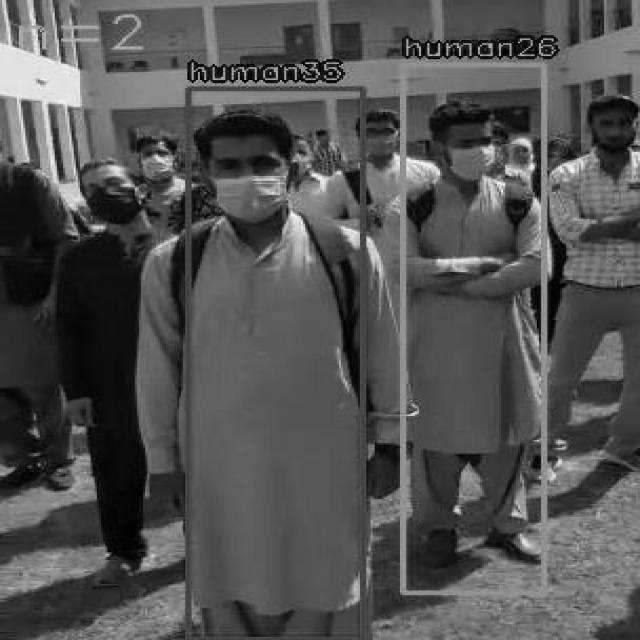person: (185, 86, 362, 638), (400, 62, 543, 592)
